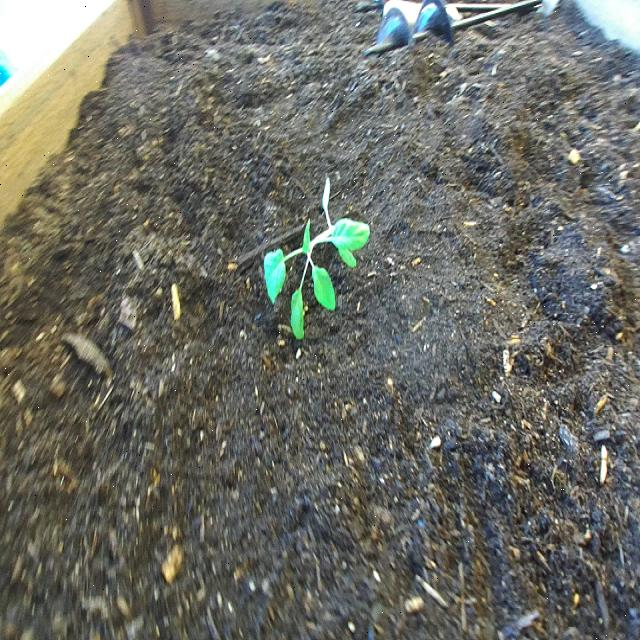Healthy: (240, 150, 376, 359)
